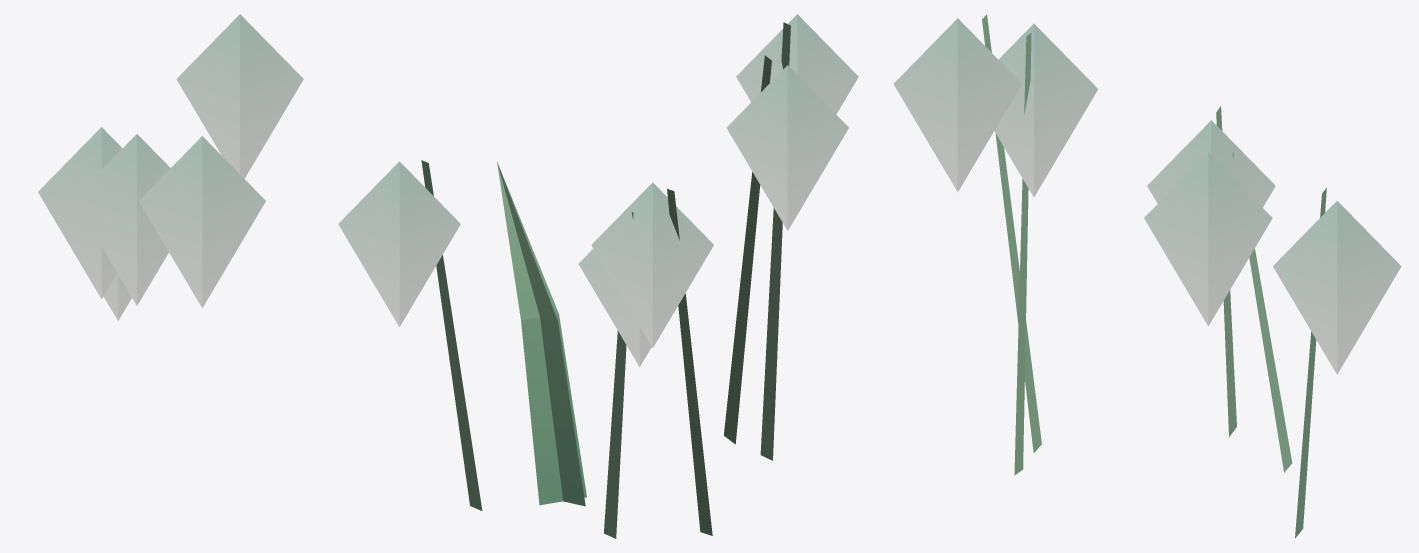
The model's file is snowdrop.glb.
The picture shows the model from 3 angles, left to right: view 1: azimuth 30°, elevation 25°; view 2: azimuth 150°, elevation 25°; view 3: azimuth 270°, elevation 25°; orthographic projection. The views are drawn at different scales.
Visible parts, largest first — view 1: near; view 2: near, far; view 3: near.
Boxes of the visible parts, x1,y1,x2,y2 form: near: (38, 14, 303, 320); near: (338, 14, 858, 538); far: (497, 162, 585, 506); near: (893, 14, 1401, 538).
Size of the model in its own units: 0.1664 by 0.1794 by 0.1917.
